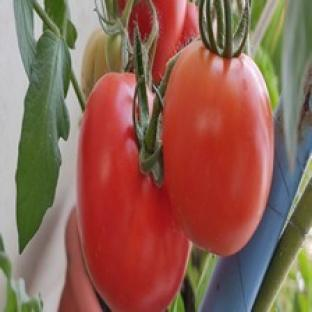Tomato: (77, 73, 189, 311), (163, 42, 272, 256), (81, 28, 108, 98), (180, 3, 199, 47)
